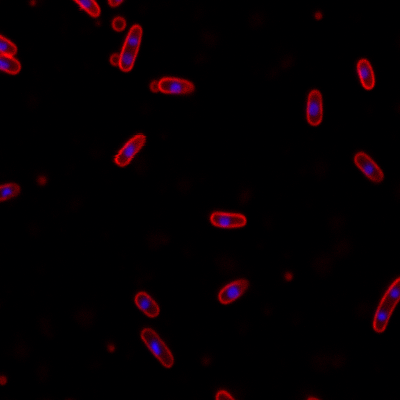CAM: (138, 325, 177, 371), (115, 23, 144, 72), (110, 131, 148, 167), (351, 150, 385, 185), (216, 277, 251, 304), (132, 290, 162, 320), (303, 87, 325, 127), (207, 210, 248, 230), (353, 57, 376, 91), (157, 76, 196, 96)
Vesicle: (35, 173, 49, 188), (280, 270, 295, 283), (104, 340, 116, 354), (311, 10, 324, 21)
